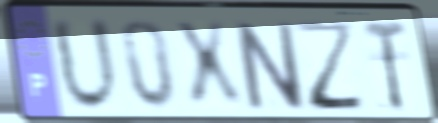0: (120, 18, 178, 115)
N: (230, 18, 309, 113)
T: (360, 17, 409, 115)
U: (48, 15, 122, 117)
X: (170, 18, 248, 114)
Z: (291, 18, 368, 114)
